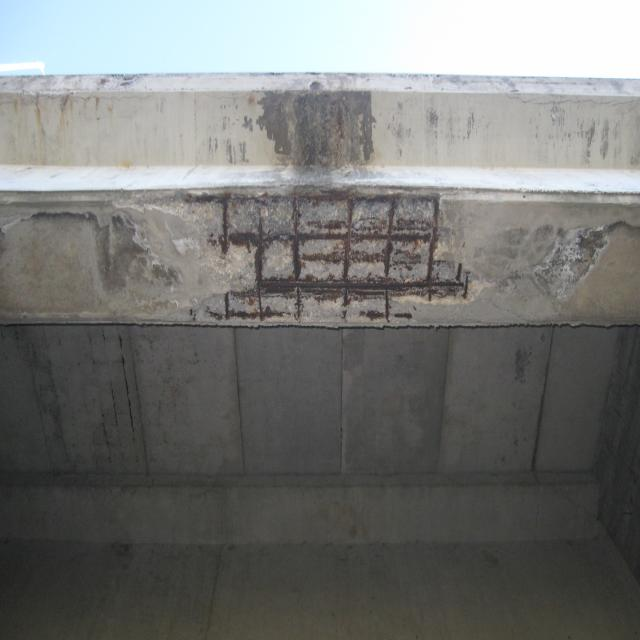corrosion: (234, 236, 343, 633), (373, 447, 407, 462)
